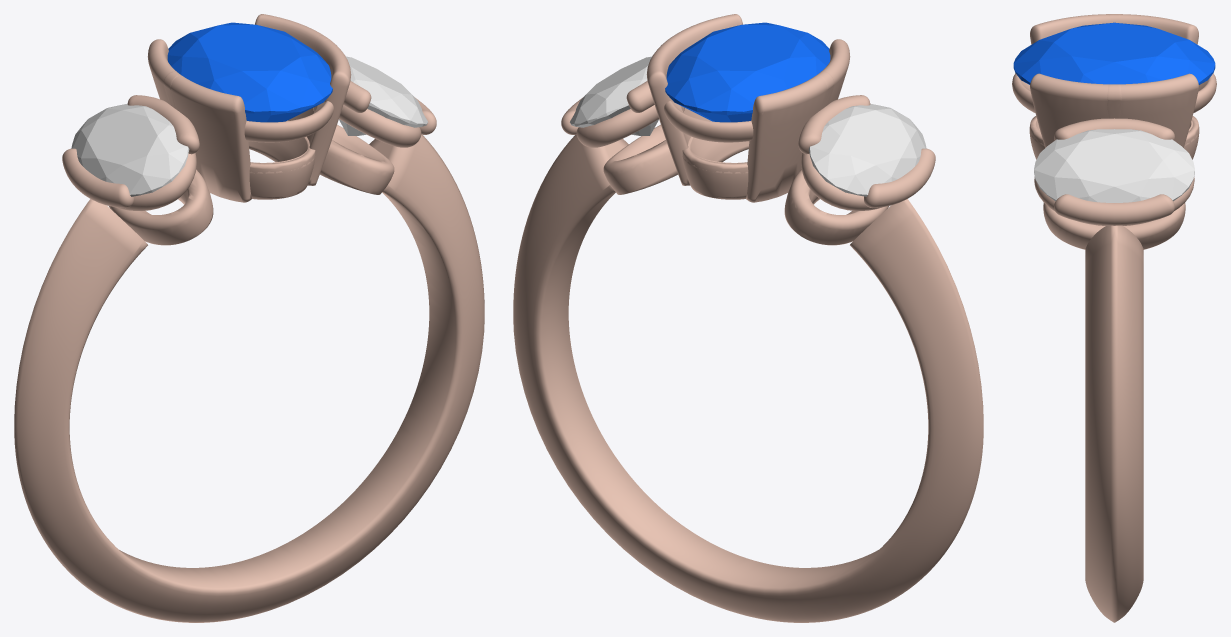
The model's file is bluesapphire-oval-rosegold-halfmoonbezel-knifeedge-3stone.glb.
3 renders of one model, left to right at view 1: azimuth 30°, elevation 25°; view 2: azimuth 150°, elevation 25°; view 3: azimuth 270°, elevation 25°, orthographic. The views are drawn at different scales.
Visible parts, largest first — view 1: metal, stone.003, side.006, side.007; view 2: metal, stone.003, side.006, side.007; view 3: metal, side.007, stone.003.
Boxes of the visible parts, bbox=[...] form: metal: bbox=[14, 14, 484, 622]; stone.003: bbox=[167, 22, 332, 122]; side.006: bbox=[71, 103, 189, 196]; side.007: bbox=[339, 56, 427, 135]; metal: bbox=[513, 14, 983, 622]; stone.003: bbox=[665, 22, 830, 122]; side.006: bbox=[808, 103, 926, 196]; side.007: bbox=[570, 56, 658, 135]; metal: bbox=[1012, 14, 1216, 622]; side.007: bbox=[1034, 129, 1194, 202]; stone.003: bbox=[1013, 22, 1215, 84].
Size of the model in its own units: 20.1 by 23.2 by 7.75.
